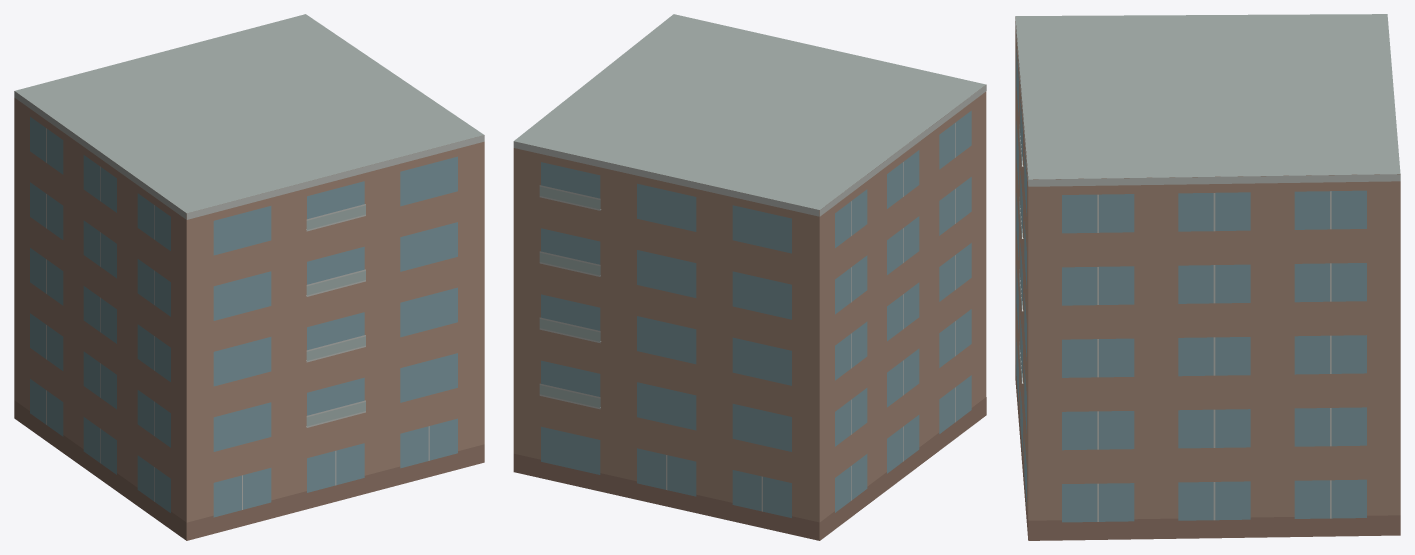
The model's file is survey-upis-32706500.glb.
The picture shows the model from 3 angles, left to right: view 1: azimuth 30°, elevation 25°; view 2: azimuth 150°, elevation 25°; view 3: azimuth 270°, elevation 25°; orthographic projection. The views are drawn at different scales.
Parts seen in each view (by area): view 1: survey-upis-32706500.tmp; view 2: survey-upis-32706500.tmp; view 3: survey-upis-32706500.tmp.
Part boxes in pixels (left/top/right/bottom): survey-upis-32706500.tmp: left=14, top=14, right=484, bottom=540; survey-upis-32706500.tmp: left=513, top=14, right=986, bottom=540; survey-upis-32706500.tmp: left=1015, top=14, right=1400, bottom=540.
Size of the model in its own units: 11.9 by 12.1 by 11.7.
